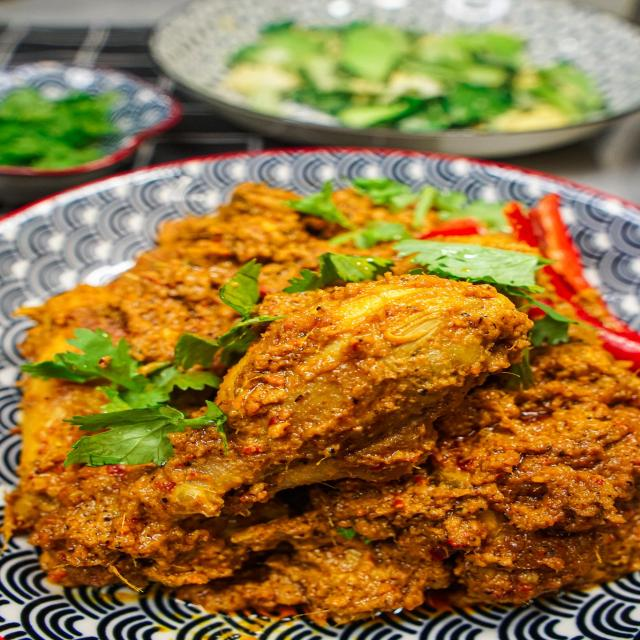Rendang: (20, 182, 640, 634)
